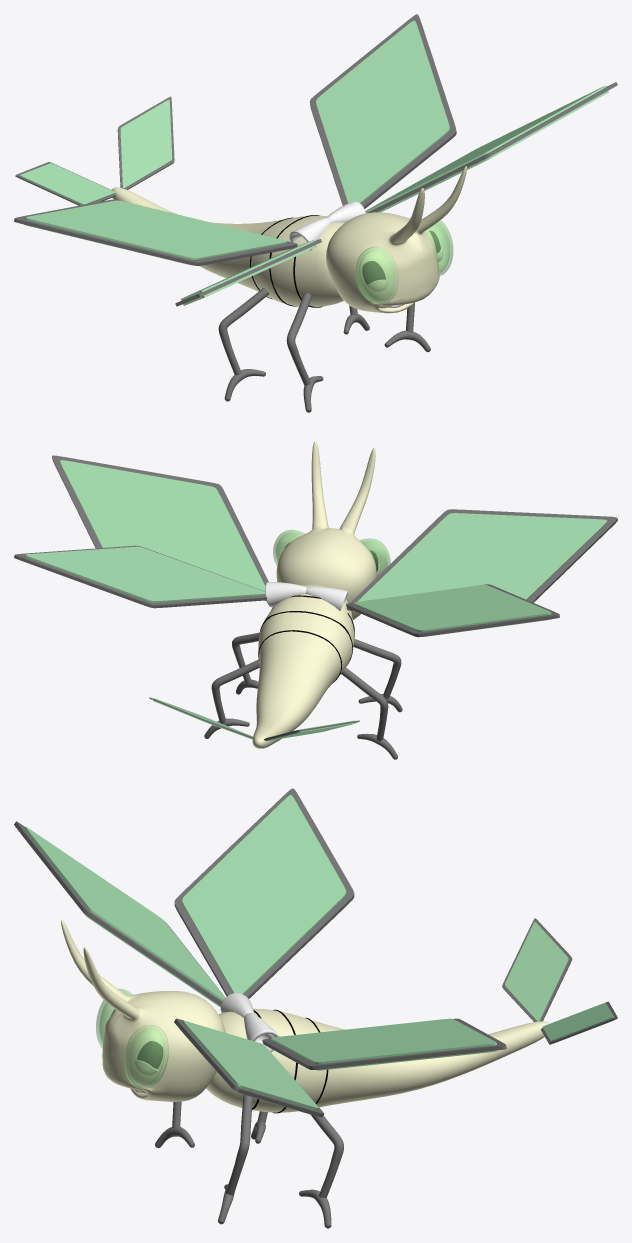
3 renders of one model, top to bottom at view 1: azimuth 30°, elevation 25°; view 2: azimuth 150°, elevation 25°; view 3: azimuth 270°, elevation 25°, orthographic. The views are drawn at different scales.
Parts seen in each view (by area): view 1: s0207_Thicken, s0213, s0217_Thicken, s0211, s0232_Thicken, s0206_Thicken, s0210_Thicken, s0235_Thicken, s0220_Thicken, s0224_Thicken, s0215_Thicken, s0231 (+6 smaller); view 2: s0210_Thicken, s0228_Thicken, s0211, s0207_Thicken, s0213, s0217_Thicken, s0225_Thicken, s0215_Thicken, s0206_Thicken, s0220_Thicken, s0231, s0226 (+7 smaller); view 3: s0217_Thicken, s0213, s0211, s0228_Thicken, s0207_Thicken, s0210_Thicken, s0220_Thicken, s0224_Thicken, s0239_Thicken, s0206_Thicken, s0225_Thicken, s0232_Thicken (+5 smaller).
Part boxes in pixels (x1=…): s0207_Thicken: x1=316, y1=20, x2=449, y2=203; s0213: x1=326, y1=166, x2=466, y2=313; s0217_Thicken: x1=24, y1=200, x2=287, y2=265; s0211: x1=111, y1=187, x2=344, y2=306; s0232_Thicken: x1=120, y1=100, x2=172, y2=188; s0206_Thicken: x1=309, y1=14, x2=456, y2=208; s0210_Thicken: x1=365, y1=85, x2=608, y2=213; s0235_Thicken: x1=356, y1=246, x2=397, y2=304; s0220_Thicken: x1=14, y1=199, x2=297, y2=265; s0224_Thicken: x1=20, y1=163, x2=115, y2=204; s0215_Thicken: x1=367, y1=82, x2=617, y2=213; s0231: x1=218, y1=288, x2=269, y2=375; s0210_Thicken: x1=60, y1=460, x2=265, y2=591; s0228_Thicken: x1=357, y1=513, x2=607, y2=601; s0211: x1=252, y1=584, x2=354, y2=748; s0207_Thicken: x1=25, y1=546, x2=265, y2=602; s0213: x1=276, y1=441, x2=376, y2=619; s0217_Thicken: x1=354, y1=585, x2=551, y2=636; s0225_Thicken: x1=346, y1=509, x2=617, y2=610; s0215_Thicken: x1=52, y1=455, x2=268, y2=600; s0206_Thicken: x1=14, y1=545, x2=267, y2=608; s0220_Thicken: x1=346, y1=584, x2=559, y2=637; s0231: x1=341, y1=667, x2=388, y2=741; s0226: x1=211, y1=659, x2=259, y2=723; s0217_Thicken: x1=182, y1=795, x2=346, y2=994; s0213: x1=61, y1=919, x2=225, y2=1101; s0211: x1=206, y1=1008, x2=549, y2=1112; s0228_Thicken: x1=22, y1=827, x2=225, y2=1007; s0207_Thicken: x1=271, y1=1018, x2=498, y2=1070; s0210_Thicken: x1=179, y1=1021, x2=318, y2=1114; s0220_Thicken: x1=174, y1=788, x2=354, y2=998; s0224_Thicken: x1=505, y1=922, x2=568, y2=1021; s0239_Thicken: x1=124, y1=1025, x2=168, y2=1089; s0206_Thicken: x1=262, y1=1018, x2=506, y2=1069; s0225_Thicken: x1=14, y1=821, x2=225, y2=1006; s0232_Thicken: x1=542, y1=1002, x2=614, y2=1043.
Size of the model in its own units: 0.4292 by 0.1781 by 0.3469.
